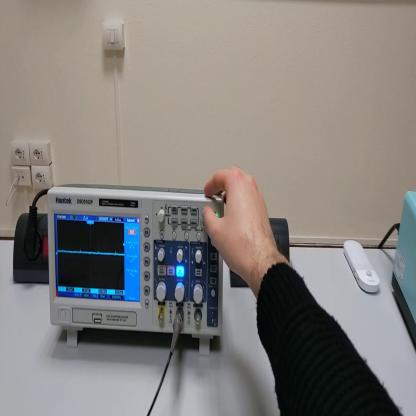hand: (201, 165, 277, 283)
oscilloscope: (49, 182, 225, 355)
socket: (13, 212, 50, 286)
welder station: (393, 195, 416, 348)
